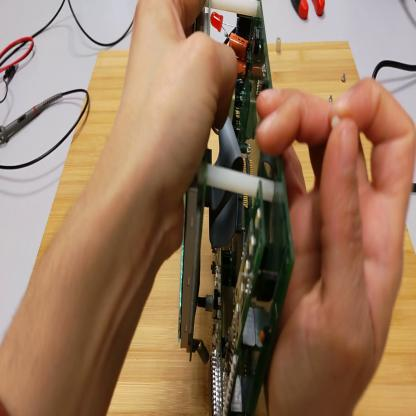hand: (254, 74, 414, 414), (119, 1, 240, 265)
low voltage board: (176, 2, 294, 416)
oscilloscope probe tip: (2, 88, 66, 144)
pliers: (295, 1, 327, 22)
working area: (30, 33, 416, 415)
